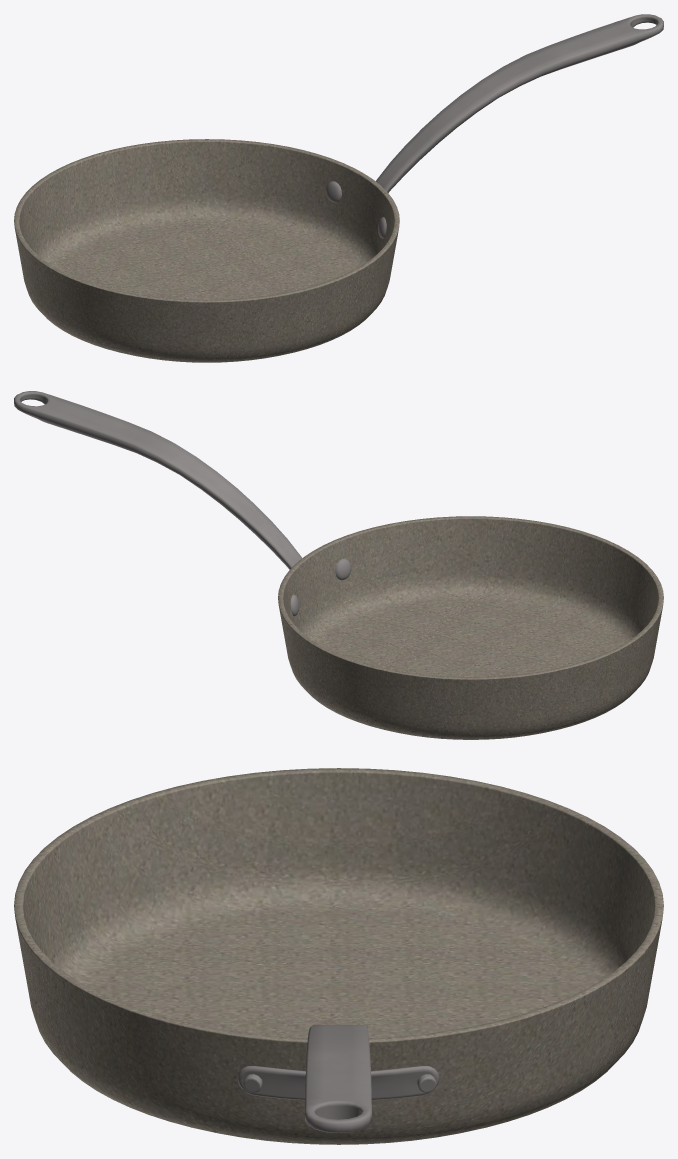
Rendered from padella30.glb.
3 renders of one model, top to bottom at view 1: azimuth 30°, elevation 25°; view 2: azimuth 150°, elevation 25°; view 3: azimuth 270°, elevation 25°, orthographic. The views are drawn at different scales.
Parts seen in each view (by area): view 1: contemporary_cookware_frying_pan_YBK2_FQ; view 2: contemporary_cookware_frying_pan_YBK2_FQ; view 3: contemporary_cookware_frying_pan_YBK2_FQ.
Boxes of the visible parts, x1,y1,x2,y2 form: contemporary_cookware_frying_pan_YBK2_FQ: [14, 14, 663, 362]; contemporary_cookware_frying_pan_YBK2_FQ: [14, 391, 663, 739]; contemporary_cookware_frying_pan_YBK2_FQ: [14, 768, 663, 1144].
Bounding box in the file's own units: 59.34 × 15.05 × 31.91.
Materials: 2 (2 with a texture image).
